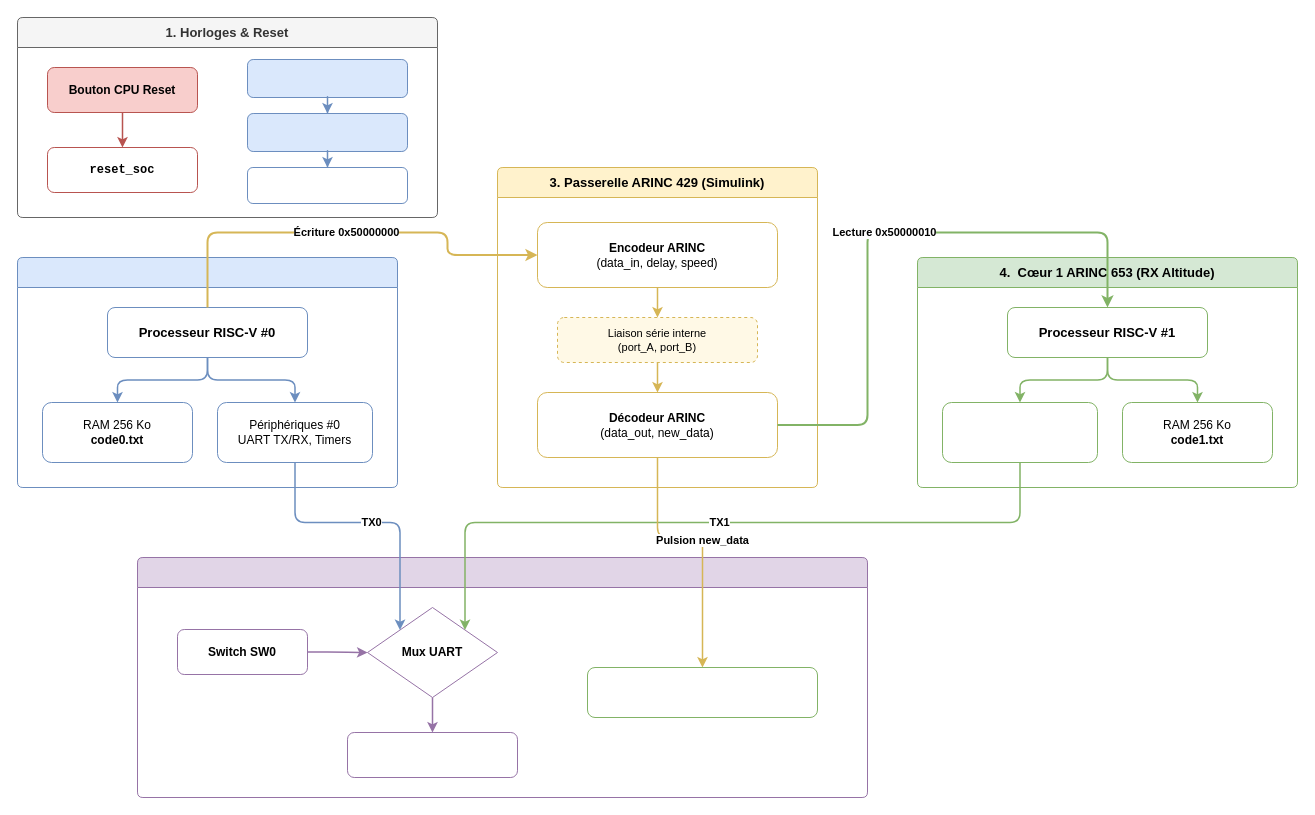
Image size: 1315x815. Some labels were removed from this diagram. The box of each missing label's shape, as (x1, y1, x2, y2) in pixels:
2. Cœur 0 ARINC 653 (TX Altitude): (16, 256, 398, 488)
5. Entrées / Sorties Physiques: (136, 556, 868, 798)
clk_25mhz: (246, 166, 408, 204)
Clock Wizard PLL: (246, 112, 408, 152)
LED 6 : Toggle ARINC RX: (586, 666, 818, 718)
Port USB-Série PC: (346, 732, 518, 778)
Périphériques #1 UART TX/RX, Timers: (942, 402, 1098, 462)
Quartz 100 MHz: (246, 58, 408, 98)
